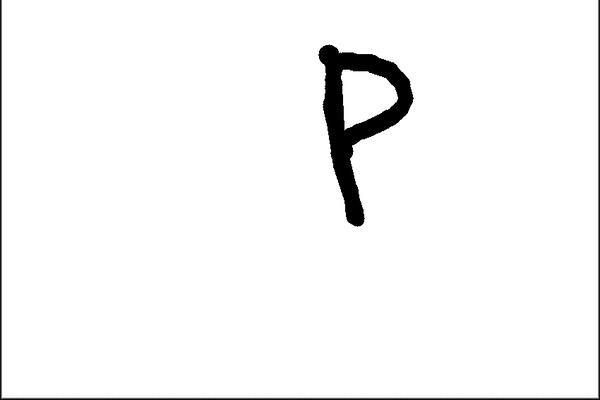P: (302, 37, 429, 239)
